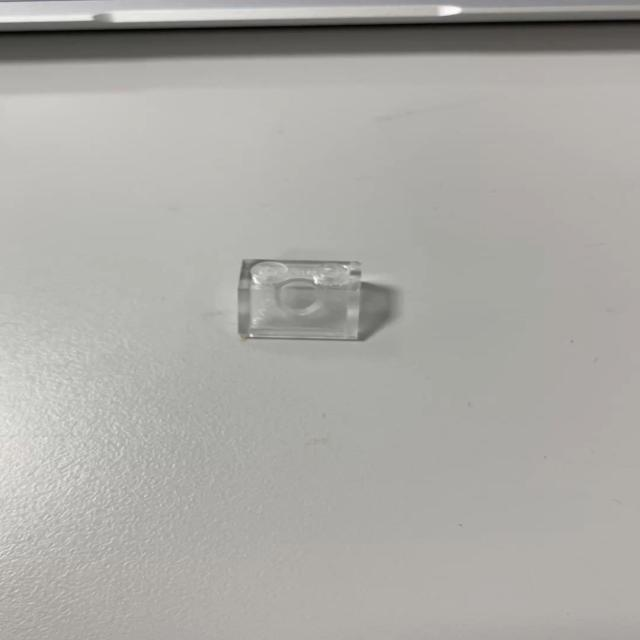P2x2x1: (235, 262, 364, 345)
